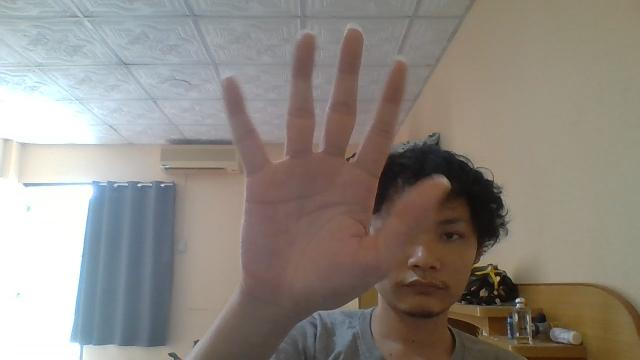Stop: (214, 21, 446, 311)
